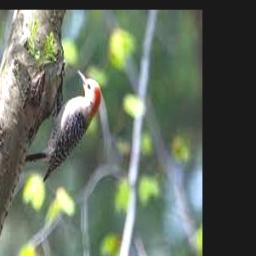Woodpecker: (24, 67, 100, 181)
